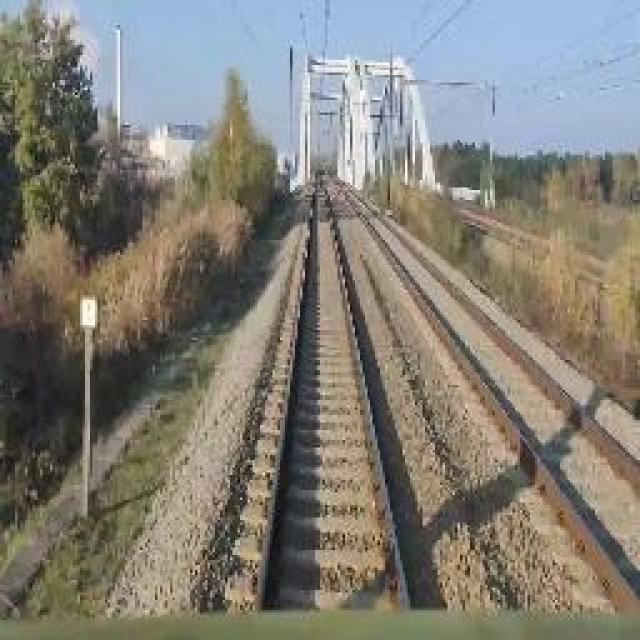rail: (327, 176, 640, 616), (211, 173, 462, 615)
